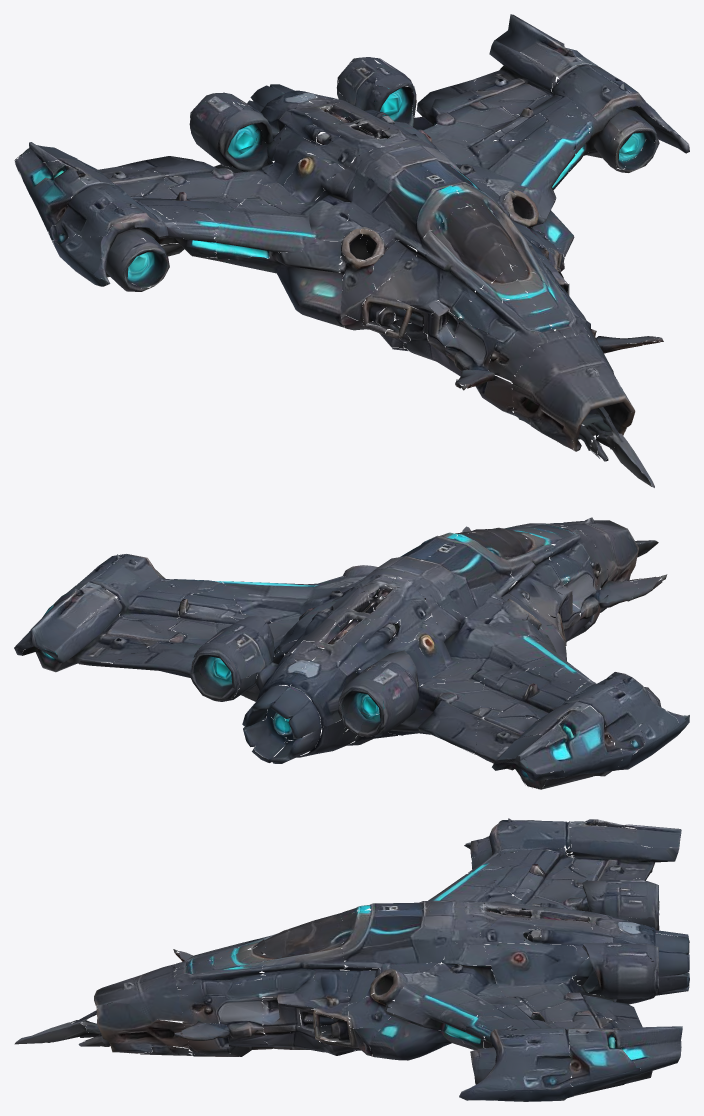
Rendered from fighter_alt.glb.
The picture shows the model from 3 angles, top to bottom: view 1: azimuth 30°, elevation 25°; view 2: azimuth 150°, elevation 25°; view 3: azimuth 270°, elevation 25°; orthographic projection. The views are drawn at different scales.
Parts seen in each view (by area): view 1: tripo_node_168bc566-dc8f-495f-b15e-2e6bfc8b94c1; view 2: tripo_node_168bc566-dc8f-495f-b15e-2e6bfc8b94c1; view 3: tripo_node_168bc566-dc8f-495f-b15e-2e6bfc8b94c1.
Boxes of the visible parts, x1,y1,x2,y2 form: tripo_node_168bc566-dc8f-495f-b15e-2e6bfc8b94c1: (14, 14, 689, 487); tripo_node_168bc566-dc8f-495f-b15e-2e6bfc8b94c1: (14, 517, 689, 789); tripo_node_168bc566-dc8f-495f-b15e-2e6bfc8b94c1: (14, 818, 689, 1101).
Size of the model in its own units: 4.37 by 1.15 by 5.
Materials: 1 (1 with a texture image).
